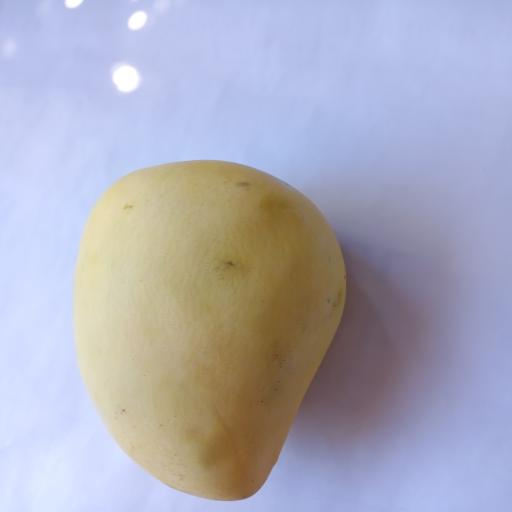mango-ripe: (55, 148, 367, 512)
